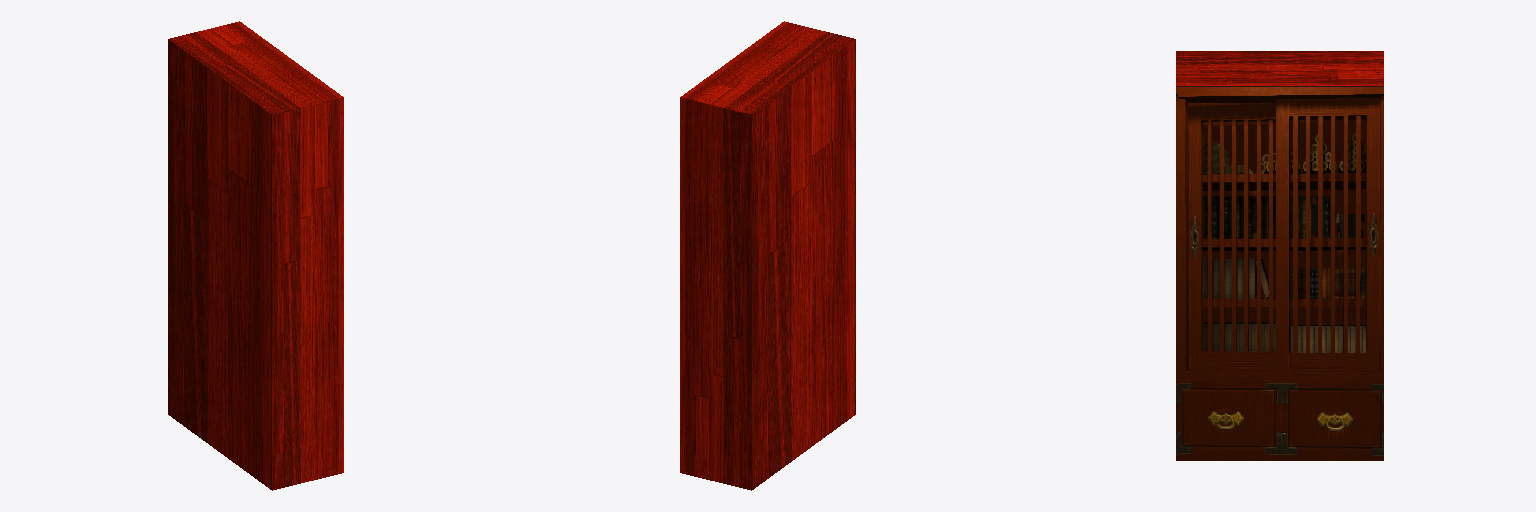
The picture shows the model from 3 angles: view 1: azimuth 30°, elevation 25°; view 2: azimuth 150°, elevation 25°; view 3: azimuth 270°, elevation 25°; orthographic projection.
Visible parts, largest first — view 1: pCube1; view 2: pCube1; view 3: pCube1.
Boxes of the visible parts, box(x1,y1,x2,y2) form: pCube1: box(168, 21, 343, 490); pCube1: box(680, 21, 855, 490); pCube1: box(1176, 51, 1383, 460).
Bounding box in the file's own units: 2 × 10 × 5.
2 materials, 2 textured.